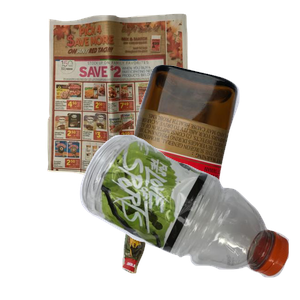glass: (113, 62, 300, 242)
paper: (44, 11, 229, 181)
plastic: (77, 132, 300, 300)
trash: (120, 131, 290, 300)
